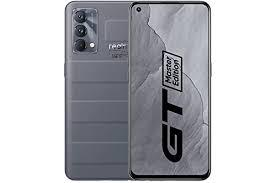Smartphone: (128, 5, 212, 181), (66, 3, 134, 178)
